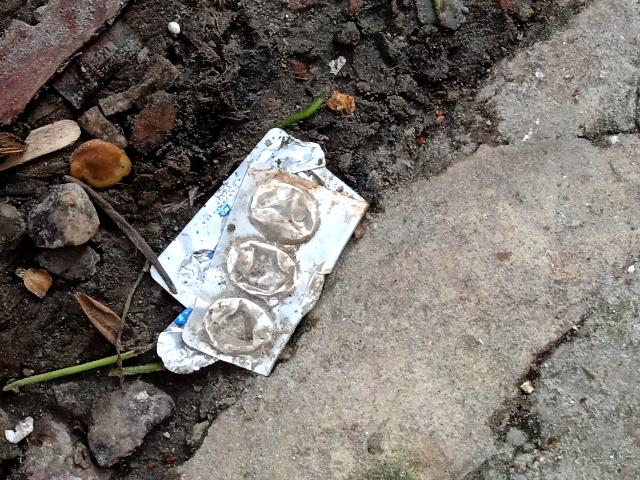medicine: (139, 111, 407, 380)
